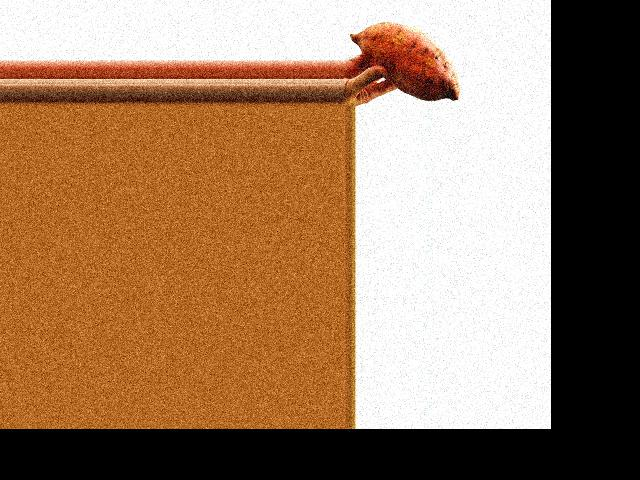sweet_potato: (354, 15, 462, 104)
